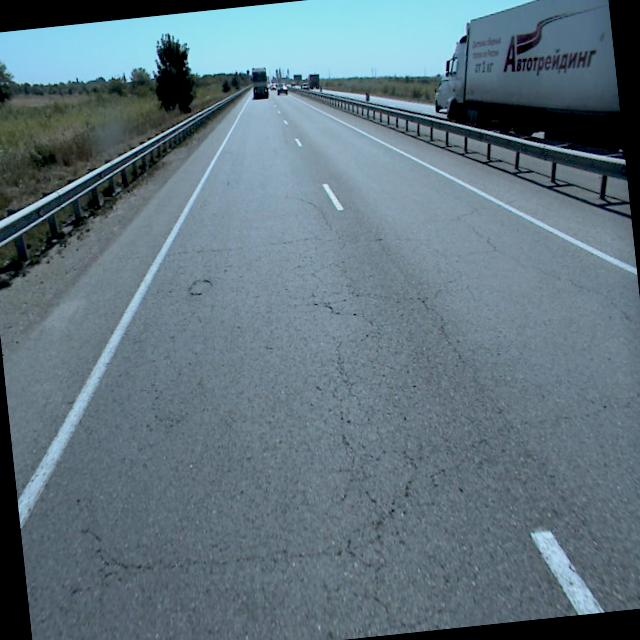road: (3, 88, 640, 640)
